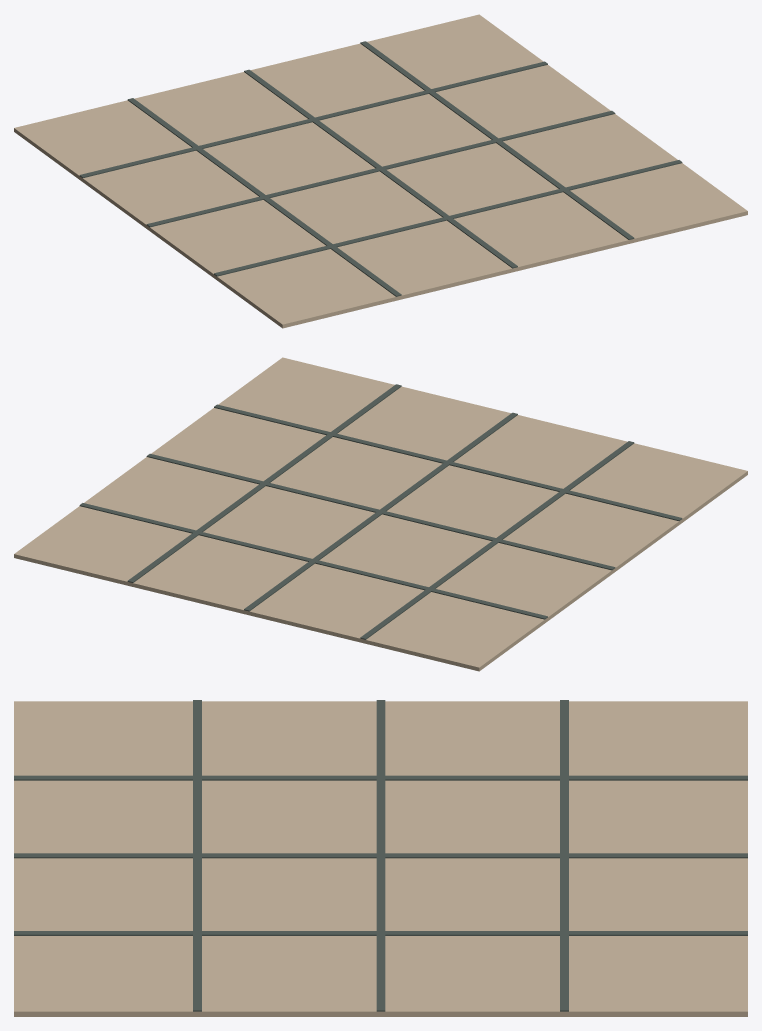
3 renders of one model, top to bottom at view 1: azimuth 30°, elevation 25°; view 2: azimuth 150°, elevation 25°; view 3: azimuth 270°, elevation 25°, orthographic. The views are drawn at different scales.
Visible parts, largest first — view 1: floor-base, grid-z-0, grid-z--0.25, grid-z-0.25, grid-x-0.25, grid-x--0.25, grid-x-0; view 2: floor-base, grid-z-0.25, grid-z-0, grid-z--0.25, grid-x-0.25, grid-x--0.25, grid-x-0; view 3: floor-base, grid-x--0.25, grid-x-0, grid-x-0.25, grid-z-0, grid-z--0.25, grid-z-0.25.
Boxes of the visible parts, bbox=[...] form: floor-base: bbox=[14, 14, 747, 328]; grid-z-0: bbox=[146, 110, 615, 227]; grid-z--0.25: bbox=[79, 61, 547, 177]; grid-z-0.25: bbox=[214, 160, 682, 276]; grid-x-0.25: bbox=[360, 41, 634, 239]; grid-x--0.25: bbox=[127, 98, 401, 296]; grid-x-0: bbox=[244, 69, 517, 268]; floor-base: bbox=[14, 357, 747, 671]; grid-z-0.25: bbox=[214, 404, 682, 520]; grid-z-0: bbox=[146, 453, 615, 570]; grid-z--0.25: bbox=[79, 503, 547, 619]; grid-x-0.25: bbox=[127, 384, 401, 582]; grid-x--0.25: bbox=[360, 441, 634, 639]; grid-x-0: bbox=[244, 412, 517, 611]; floor-base: bbox=[14, 701, 747, 1016]; grid-x--0.25: bbox=[14, 775, 747, 780]; grid-x-0: bbox=[14, 853, 747, 858]; grid-x-0.25: bbox=[14, 931, 747, 935]; grid-z-0: bbox=[376, 700, 385, 1011]; grid-z--0.25: bbox=[560, 700, 568, 1011]; grid-z-0.25: bbox=[193, 700, 201, 1011].
Bounding box in the file's own units: 1 × 0.01 × 1.
